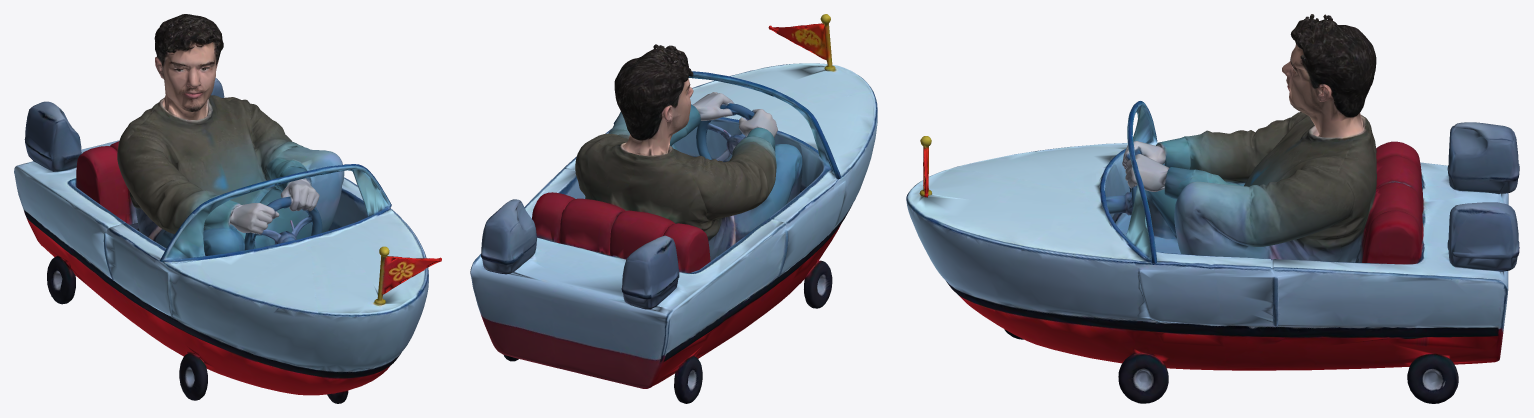
The model's file is jack.glb.
The picture shows the model from 3 angles, left to right: view 1: azimuth 30°, elevation 25°; view 2: azimuth 150°, elevation 25°; view 3: azimuth 270°, elevation 25°; orthographic projection. The views are drawn at different scales.
Parts seen in each view (by area): view 1: tripo_node_8cc20dac-3d3d-42b2-ba6d-6231db83691e; view 2: tripo_node_8cc20dac-3d3d-42b2-ba6d-6231db83691e; view 3: tripo_node_8cc20dac-3d3d-42b2-ba6d-6231db83691e.
Boxes of the visible parts, bbox=[...] form: tripo_node_8cc20dac-3d3d-42b2-ba6d-6231db83691e: bbox=[14, 14, 441, 403]; tripo_node_8cc20dac-3d3d-42b2-ba6d-6231db83691e: bbox=[470, 14, 877, 403]; tripo_node_8cc20dac-3d3d-42b2-ba6d-6231db83691e: bbox=[906, 14, 1519, 403].
Size of the model in its own units: 0.4701 by 0.5845 by 0.9801.
Materials: 1 (1 with a texture image).
